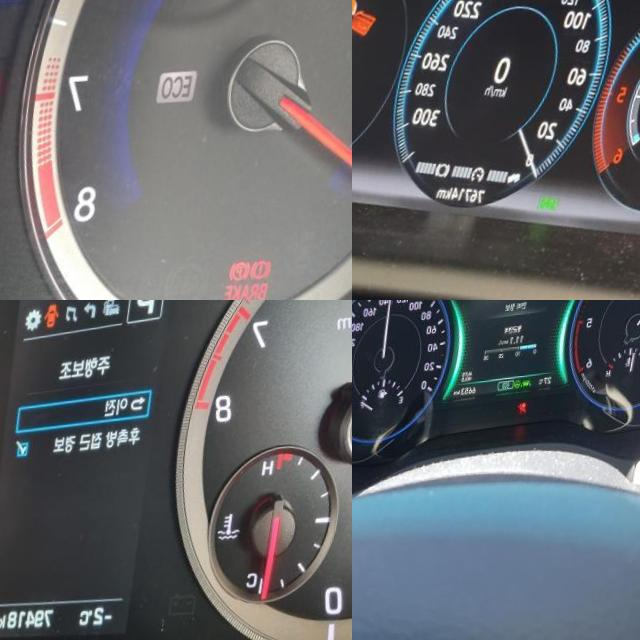Doors: (50, 306, 68, 333)
SideLamp: (552, 200, 577, 220)
